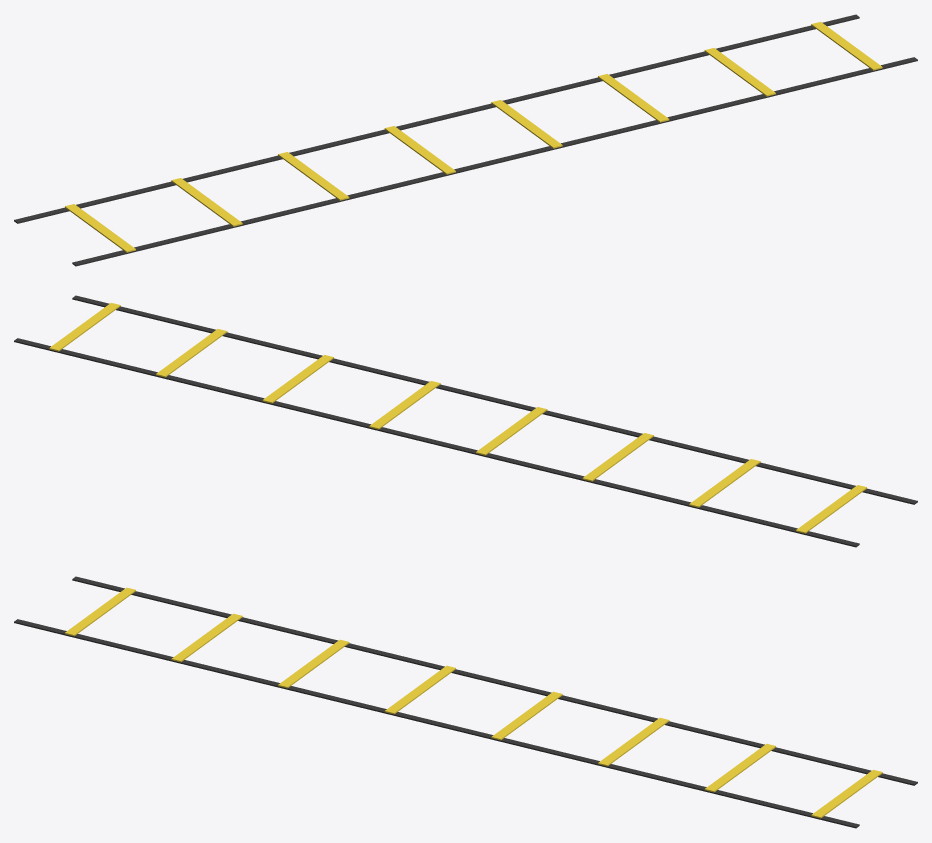
File: speed_ladder.glb
The picture shows the model from 3 angles, top to bottom: view 1: azimuth 30°, elevation 25°; view 2: azimuth 150°, elevation 25°; view 3: azimuth 330°, elevation 25°; orthographic projection.
Parts seen in each view (by area): view 1: TrainingLadder; view 2: TrainingLadder; view 3: TrainingLadder.
Boxes of the visible parts, x1,y1,x2,y2 form: TrainingLadder: (14, 14, 917, 266); TrainingLadder: (14, 295, 917, 547); TrainingLadder: (14, 576, 917, 828).
Size of the model in its own units: 3.4 by 0.0102 by 0.4318.
